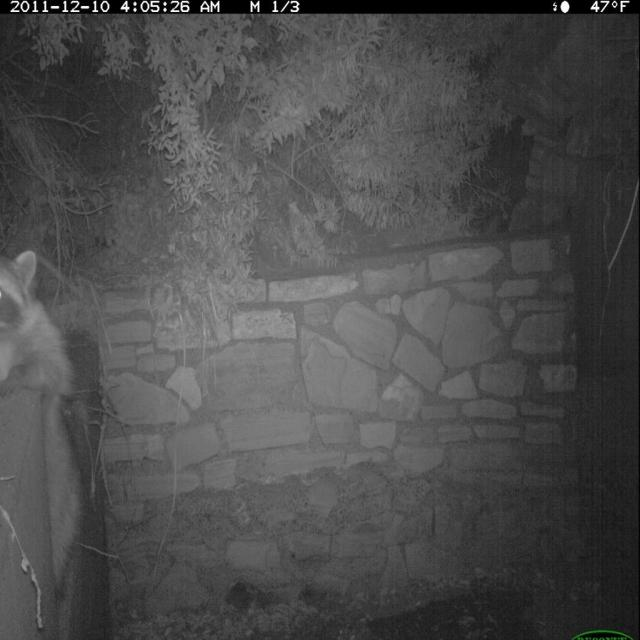raccoon: (3, 237, 89, 619)
